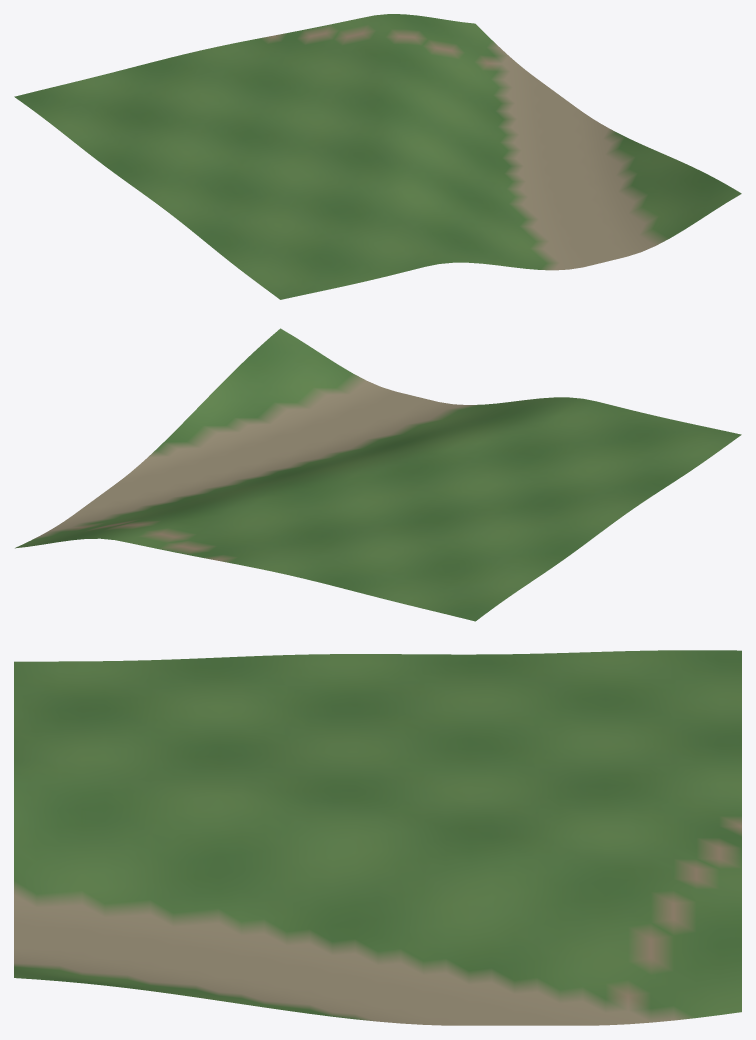
Rendered from chunk_3_3.glb.
The picture shows the model from 3 angles, top to bottom: view 1: azimuth 30°, elevation 25°; view 2: azimuth 150°, elevation 25°; view 3: azimuth 270°, elevation 25°; orthographic projection. The views are drawn at different scales.
Bounding box in the file's own units: 512 × 53.86 × 512.
